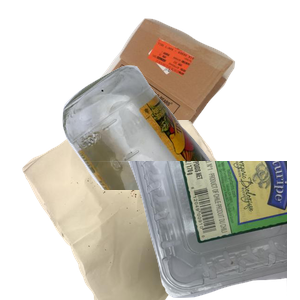cardboard: (67, 16, 295, 196)
glass: (60, 63, 300, 243)
plastic: (60, 161, 300, 300)
trash: (20, 120, 260, 300)
